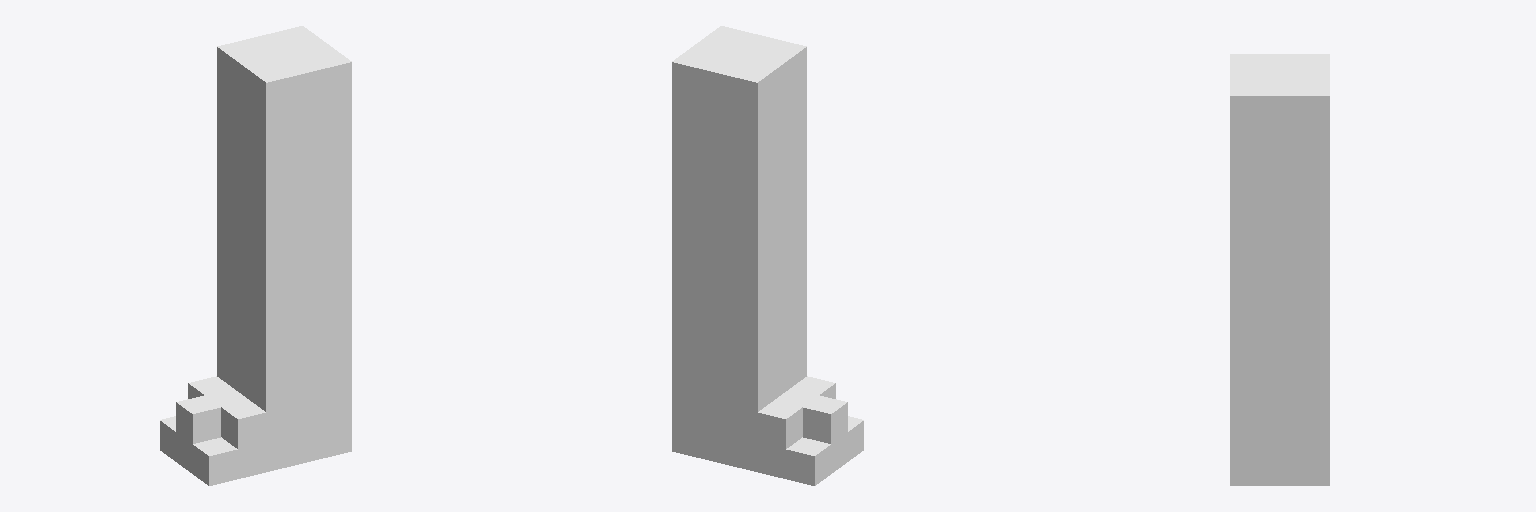
The model's file is guy_foot.obj.
3 views of the same model, side by side, from view 1: azimuth 30°, elevation 25°; view 2: azimuth 150°, elevation 25°; view 3: azimuth 270°, elevation 25° (orthographic).
Visible parts, largest first — view 1: object 1; view 2: object 1; view 3: object 1.
Boxes of the visible parts, x1,y1,x2,y2 form: object 1: [160, 26, 351, 485]; object 1: [672, 26, 863, 485]; object 1: [1230, 54, 1329, 485].
Size of the model in its own units: 0.5 by 1.3 by 0.3.